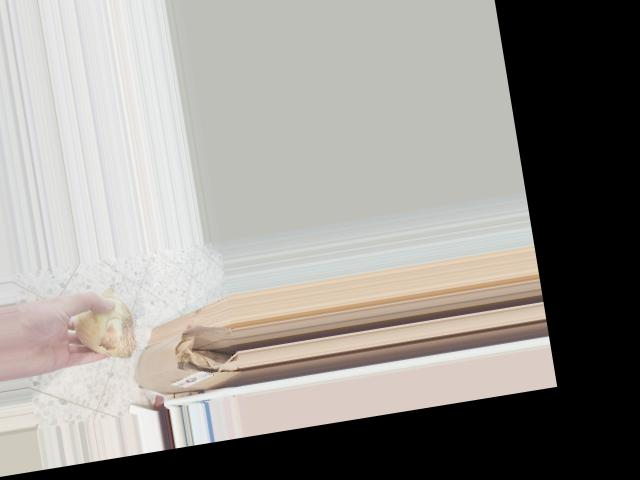onion: (64, 287, 145, 367)
